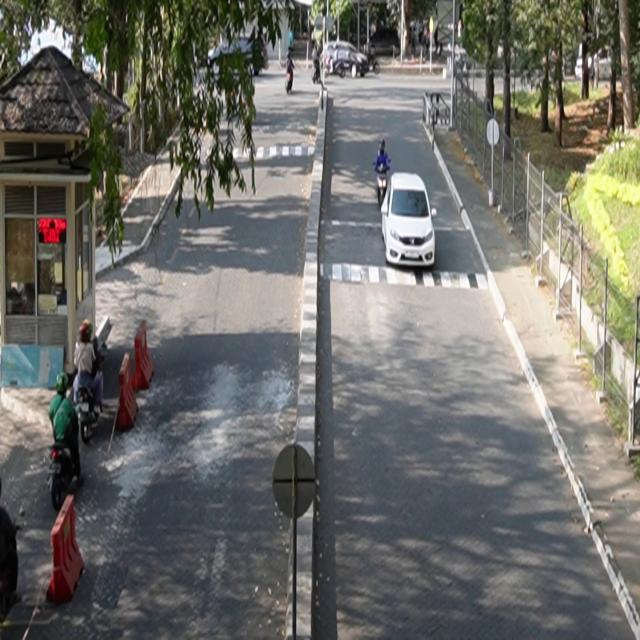car: (382, 172, 438, 269)
